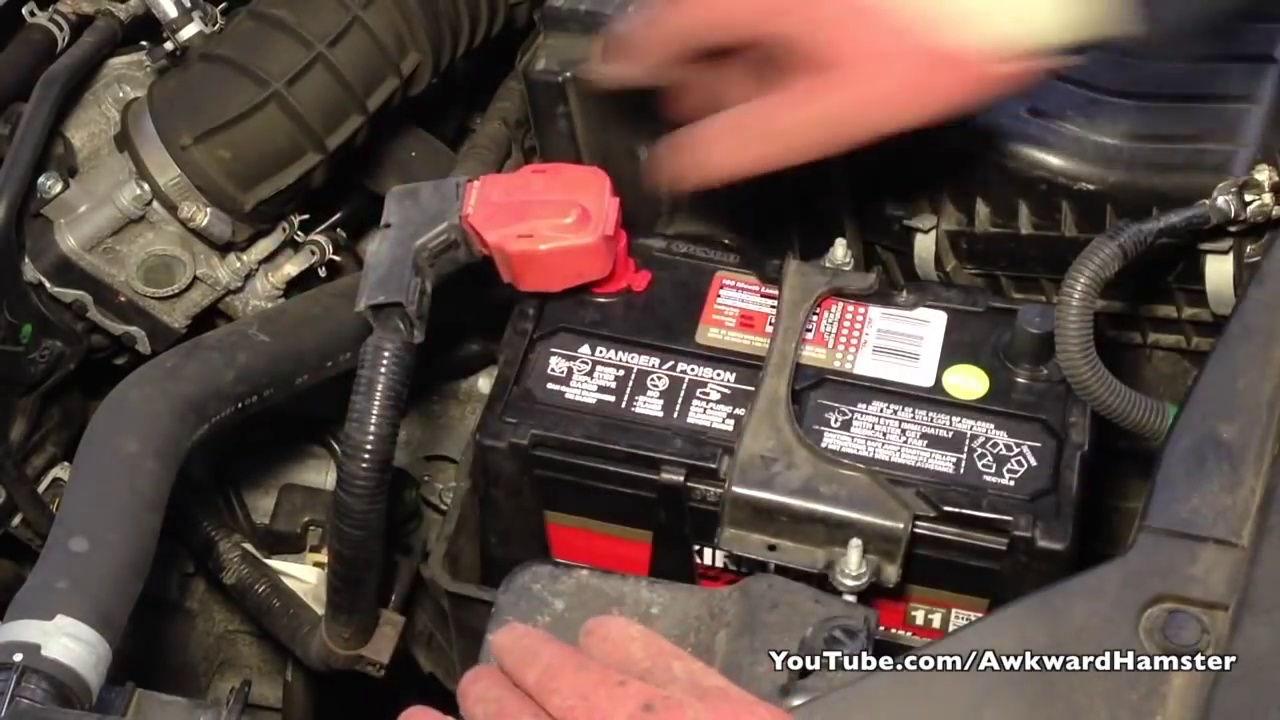battery: (483, 211, 1069, 536)
pos_connected: (387, 144, 636, 315)
